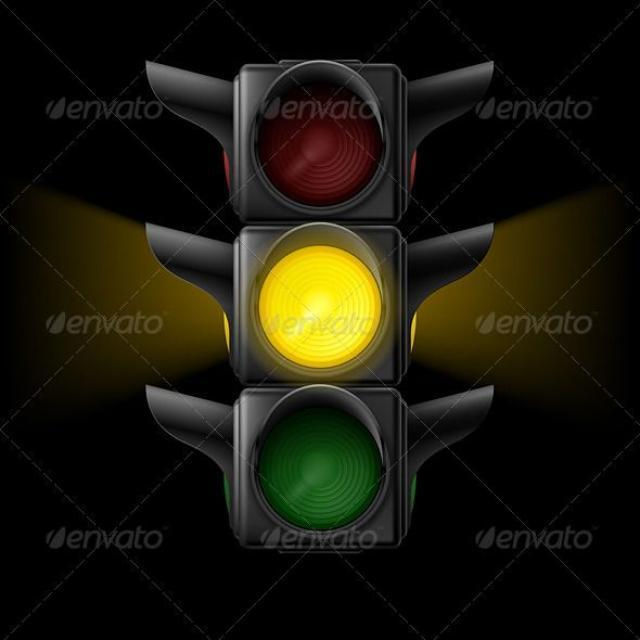yellow_light: (225, 60, 410, 549)
